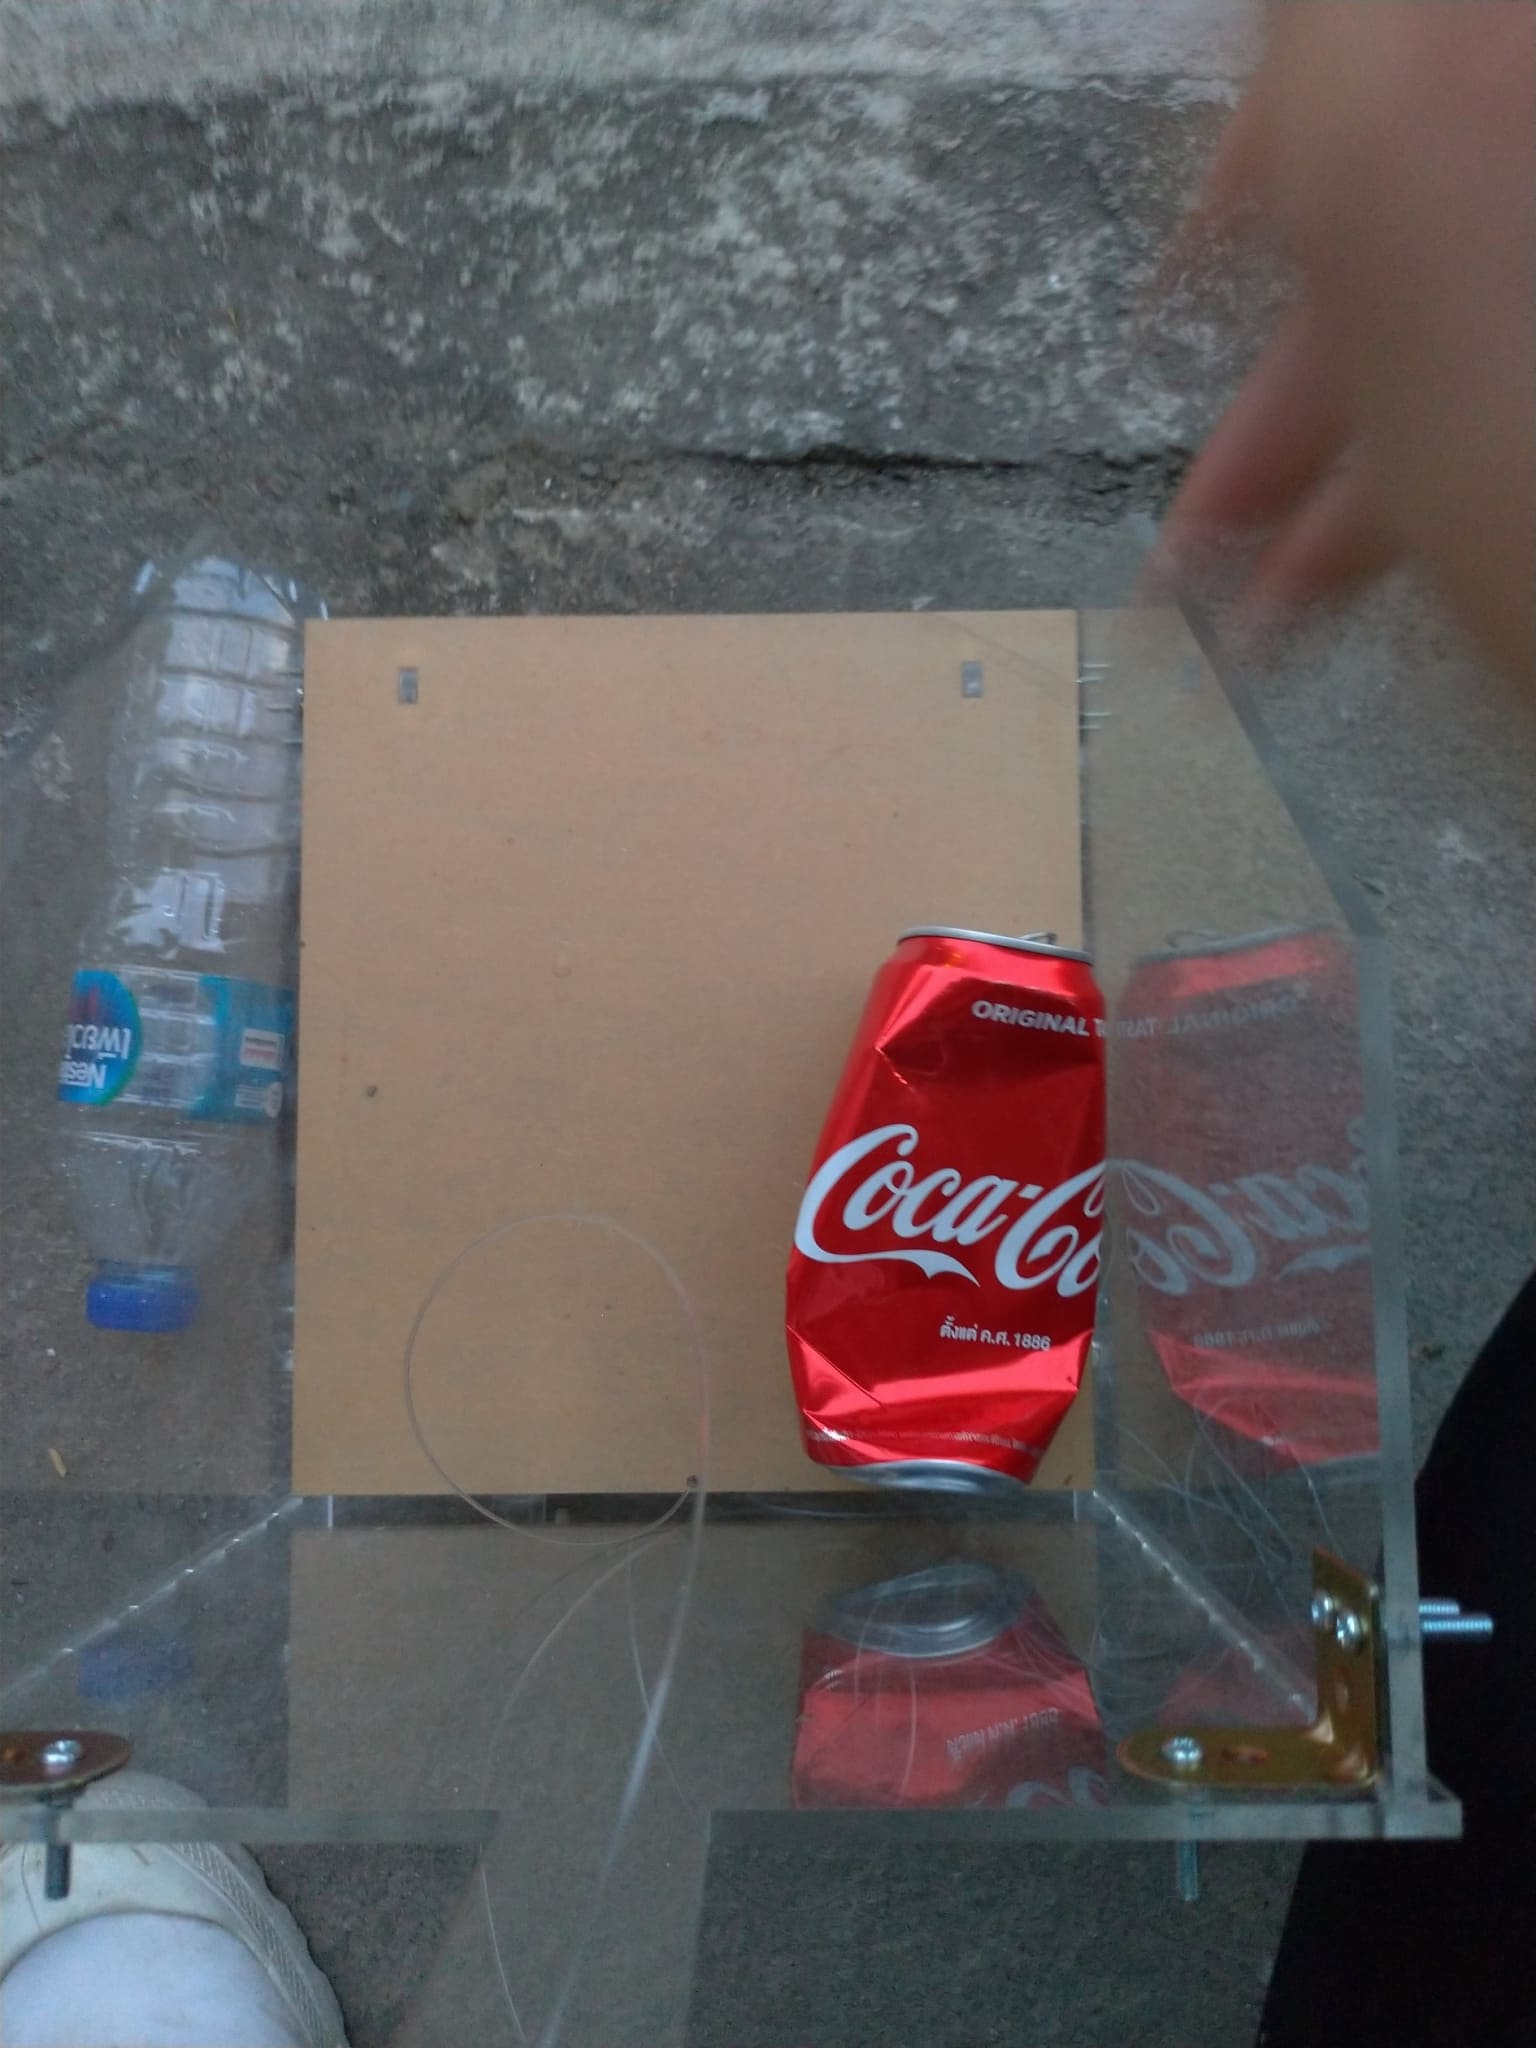AlCan: (786, 926, 1112, 1490)
PlasticBottle: (60, 558, 303, 1332)
